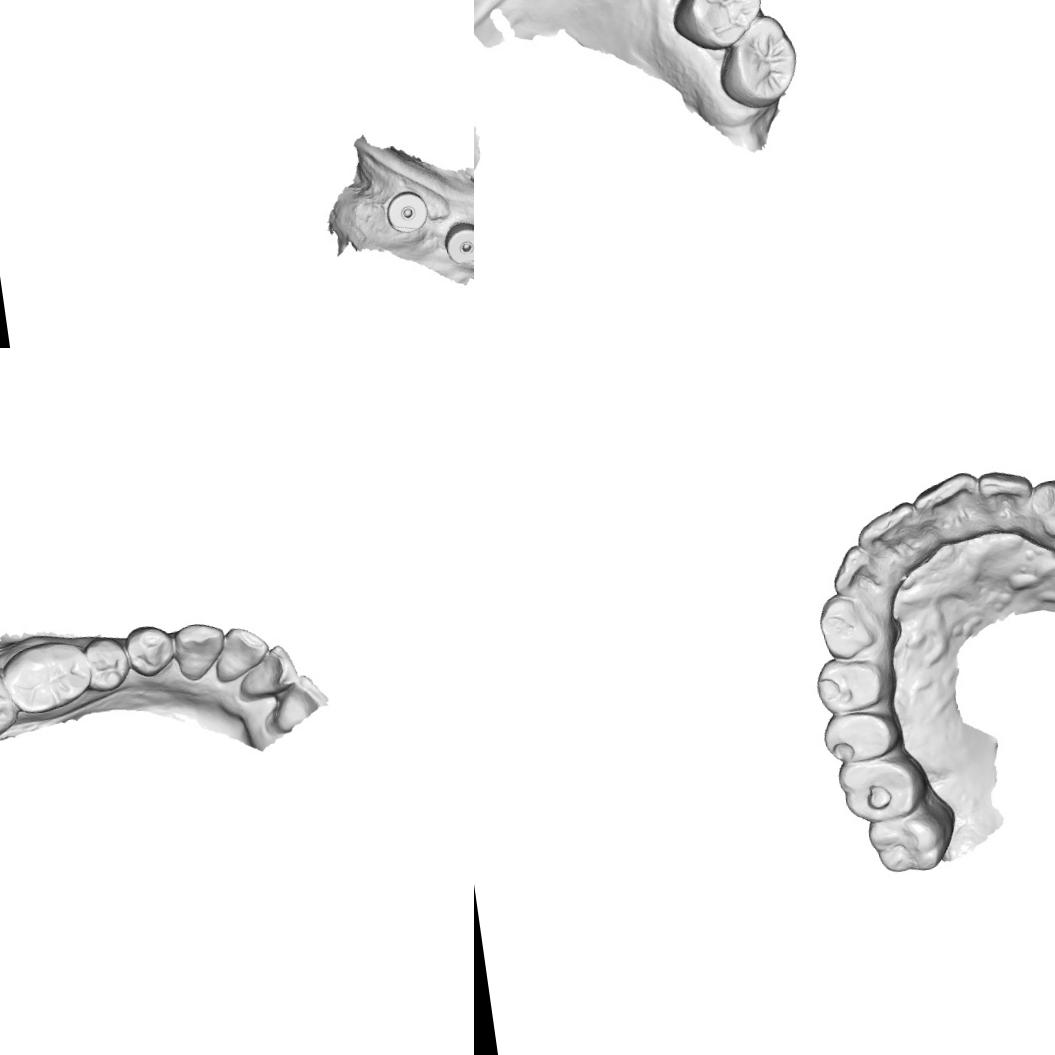canine: (812, 592, 878, 661), (169, 618, 230, 686), (1024, 470, 1055, 539)
implant: (382, 189, 429, 237), (442, 220, 474, 266)
incisor: (912, 471, 989, 540), (268, 670, 332, 736), (856, 503, 924, 561), (210, 623, 273, 684), (235, 642, 299, 702), (973, 469, 1031, 526), (826, 541, 883, 598)
molar: (709, 10, 805, 115), (2, 634, 96, 720), (862, 799, 954, 884), (664, 0, 772, 59), (837, 753, 924, 825), (0, 660, 19, 751)
premolar: (818, 704, 900, 766), (813, 654, 889, 718), (122, 619, 180, 681), (83, 635, 131, 692)
